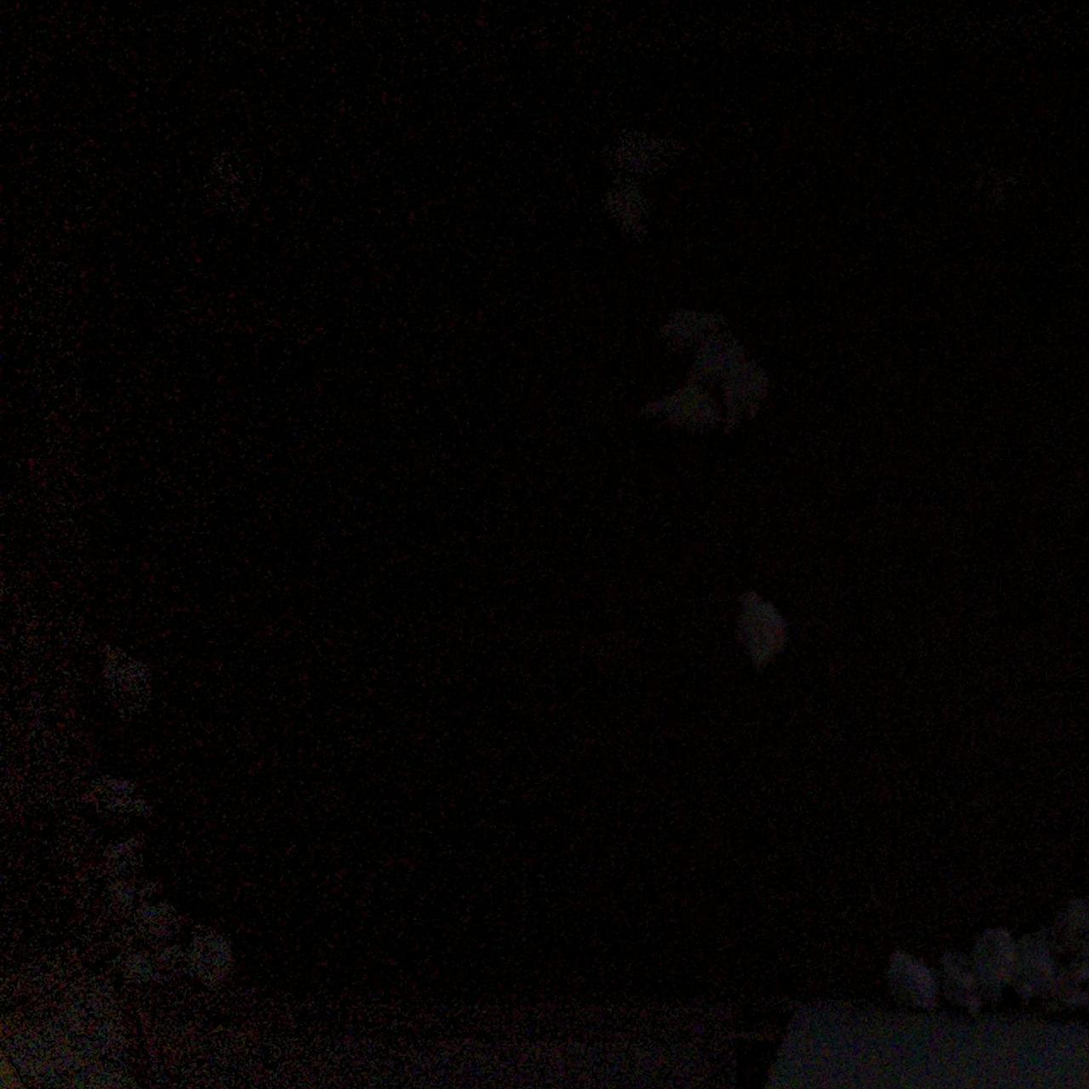chicken: (583, 126, 694, 187), (727, 581, 797, 677), (92, 640, 159, 735), (628, 376, 727, 437), (193, 143, 264, 226), (596, 165, 661, 249), (73, 769, 160, 830), (951, 150, 1022, 224), (881, 941, 943, 1023), (180, 914, 241, 995), (718, 347, 770, 440), (967, 925, 1028, 1001), (934, 945, 988, 1024), (1005, 928, 1060, 1005), (658, 301, 727, 359), (691, 321, 749, 387), (92, 826, 147, 886), (128, 881, 179, 945), (96, 878, 145, 942), (1041, 949, 1089, 1012), (116, 938, 162, 999), (146, 931, 190, 993), (1041, 891, 1089, 947)
